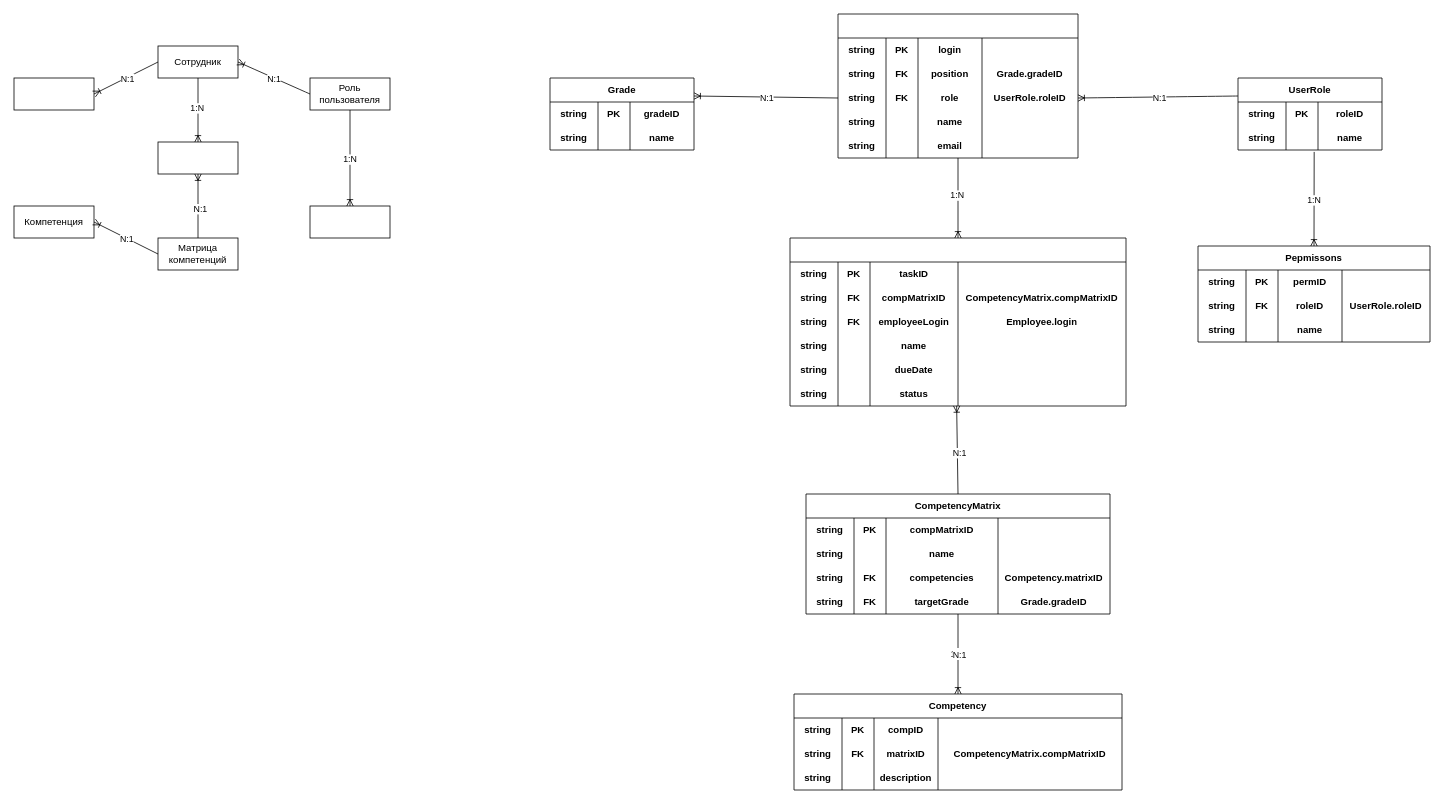
The diagram is 1444 pixels wide and 804 high, and some of its shapes have lost their labels. Each missing label, with the box of its shape:
Employee: (837, 13, 1078, 158)
GradingTask: (789, 237, 1126, 406)
Грейд: (13, 77, 94, 110)
Задача на грейдирование: (157, 141, 238, 174)
Полномочия: (309, 205, 390, 238)
